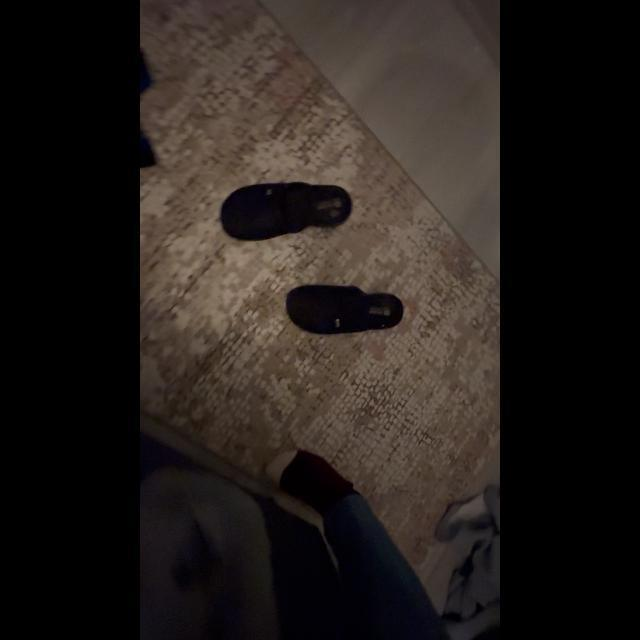slipper: (216, 174, 360, 244), (282, 277, 410, 339)
